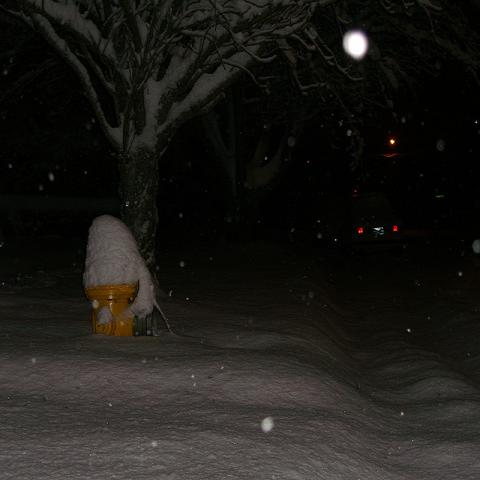car: (322, 191, 408, 258)
